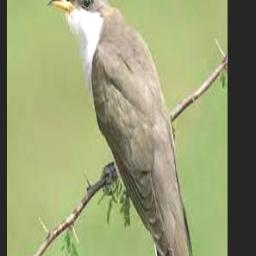Cuckoo: (48, 0, 197, 256)
